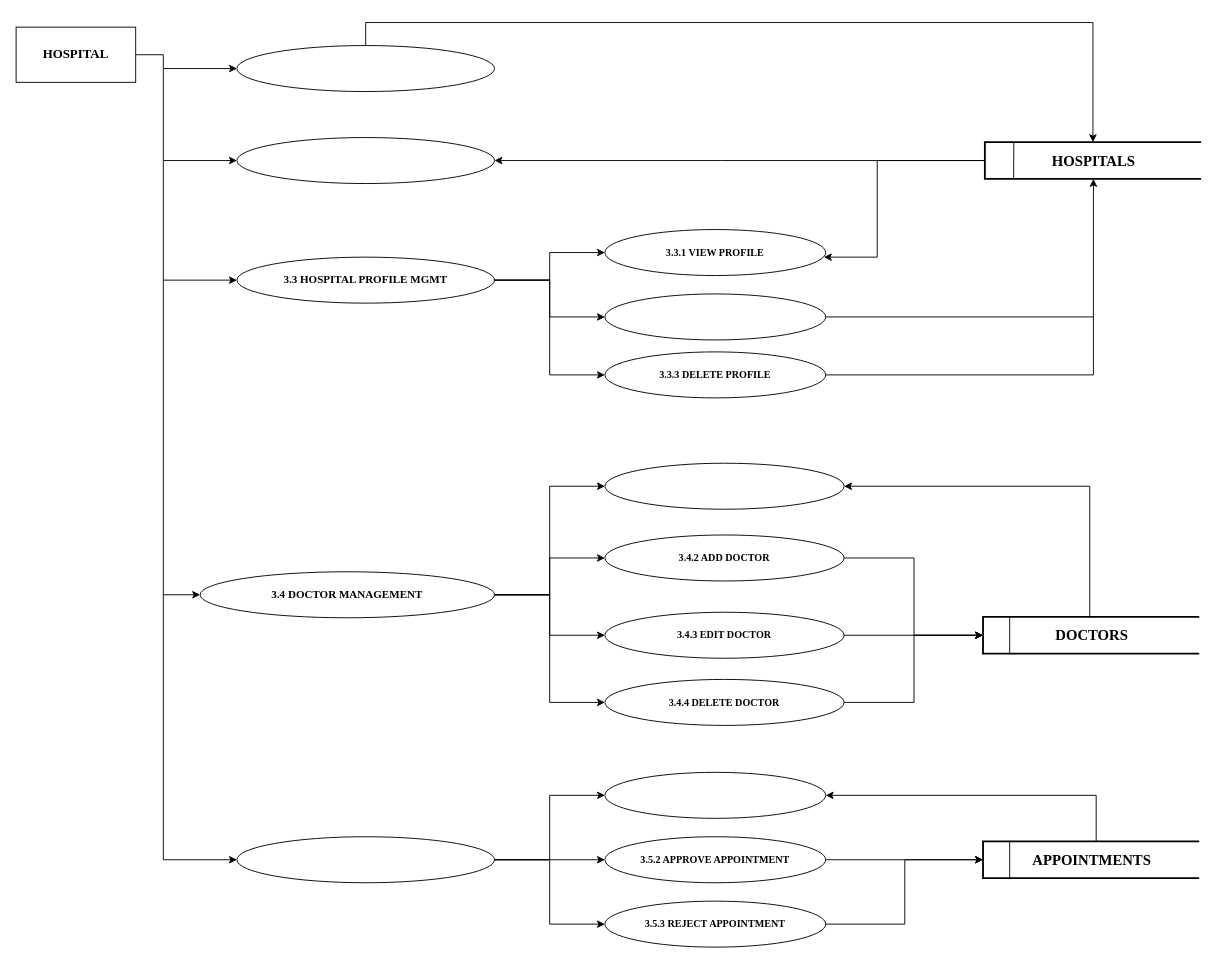
Some shapes in this 1218 by 963 pixel diagram are drawn without their labels. Each missing label, with the box of its shape:
3.1 HOSPITAL REGISTRATION: (236, 45, 494, 92)
3.2 HOSPITAL LOGIN: (236, 137, 494, 184)
3.3.2 EDIT PROFILE: (604, 293, 826, 340)
3.4.1 VIEW DOCTORS: (604, 462, 844, 509)
3.5 APPOINTMENT MANAGEMENT: (236, 836, 494, 883)
3.5.1 VIEW APPOINTMENTS: (604, 771, 826, 818)
